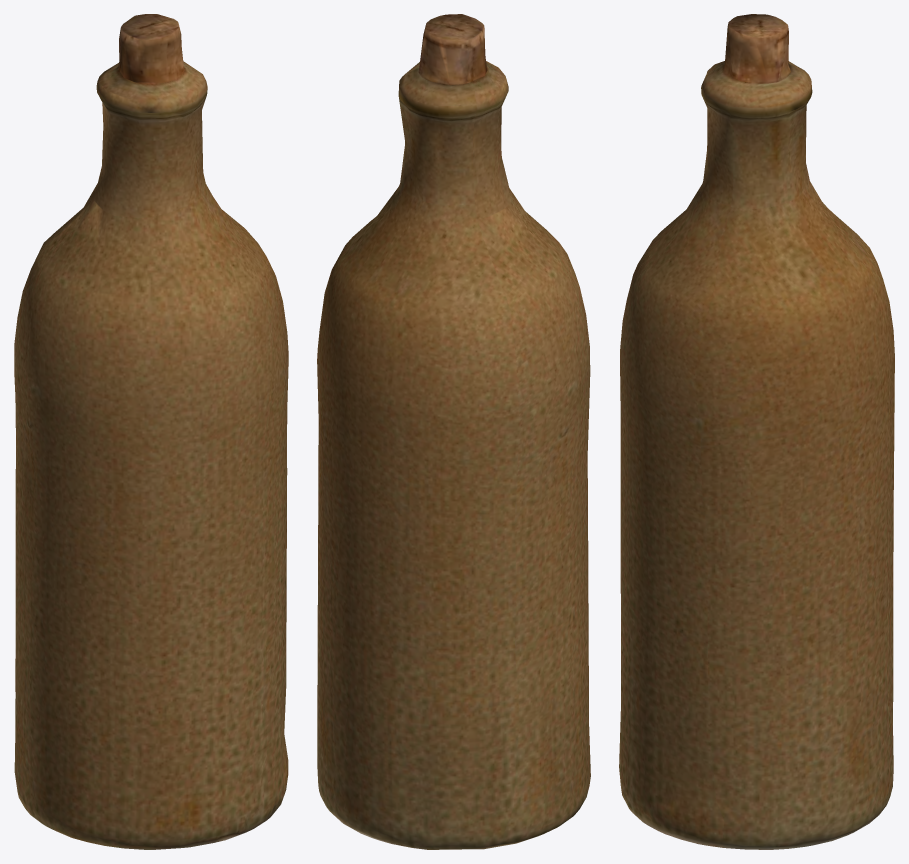
Rendered from flask.glb.
The picture shows the model from 3 angles, left to right: view 1: azimuth 30°, elevation 25°; view 2: azimuth 150°, elevation 25°; view 3: azimuth 270°, elevation 25°; orthographic projection.
Visible parts, largest first — view 1: tjuhabova_LOD0_TIER2_000; view 2: tjuhabova_LOD0_TIER2_000; view 3: tjuhabova_LOD0_TIER2_000.
Boxes of the visible parts, left/top/right/bottom form: tjuhabova_LOD0_TIER2_000: left=14, top=14, right=288, bottom=849; tjuhabova_LOD0_TIER2_000: left=317, top=14, right=590, bottom=849; tjuhabova_LOD0_TIER2_000: left=619, top=14, right=894, bottom=849.
Bounding box in the file's own units: 0.0815 × 0.2546 × 0.082.
1 material, 1 textured.
